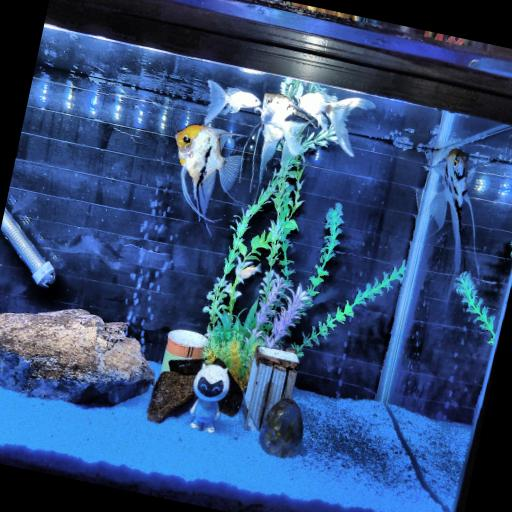Fish: (175, 125, 240, 220), (428, 149, 478, 272), (252, 93, 311, 181), (298, 92, 373, 156), (204, 81, 259, 124), (235, 257, 260, 283)
